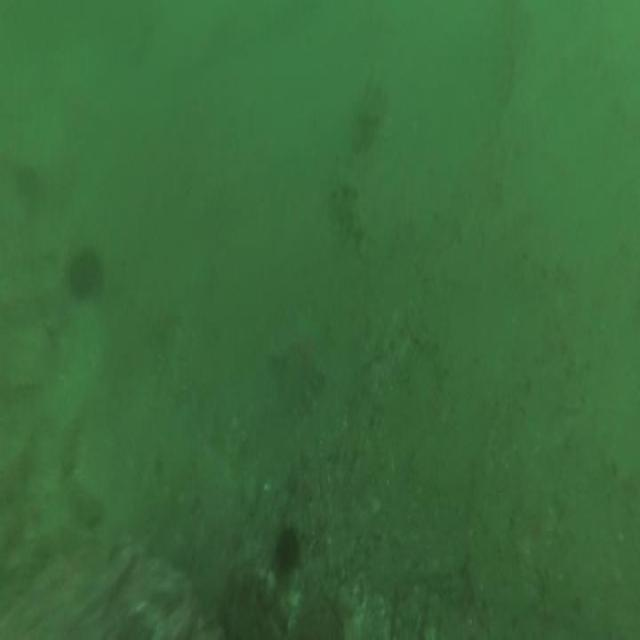echinus: (66, 254, 100, 298), (277, 529, 296, 572)
starfish: (278, 310, 324, 381)
